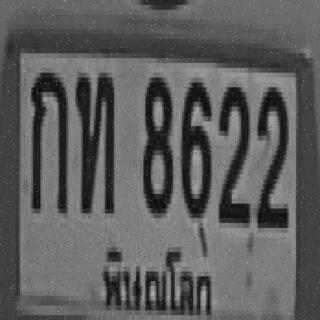A01: (29, 65, 66, 206)
A23: (75, 65, 112, 206)
N02: (217, 80, 248, 220), (255, 80, 286, 220)
N06: (180, 73, 210, 213)
N08: (142, 70, 171, 211)
P46: (96, 233, 217, 320)
